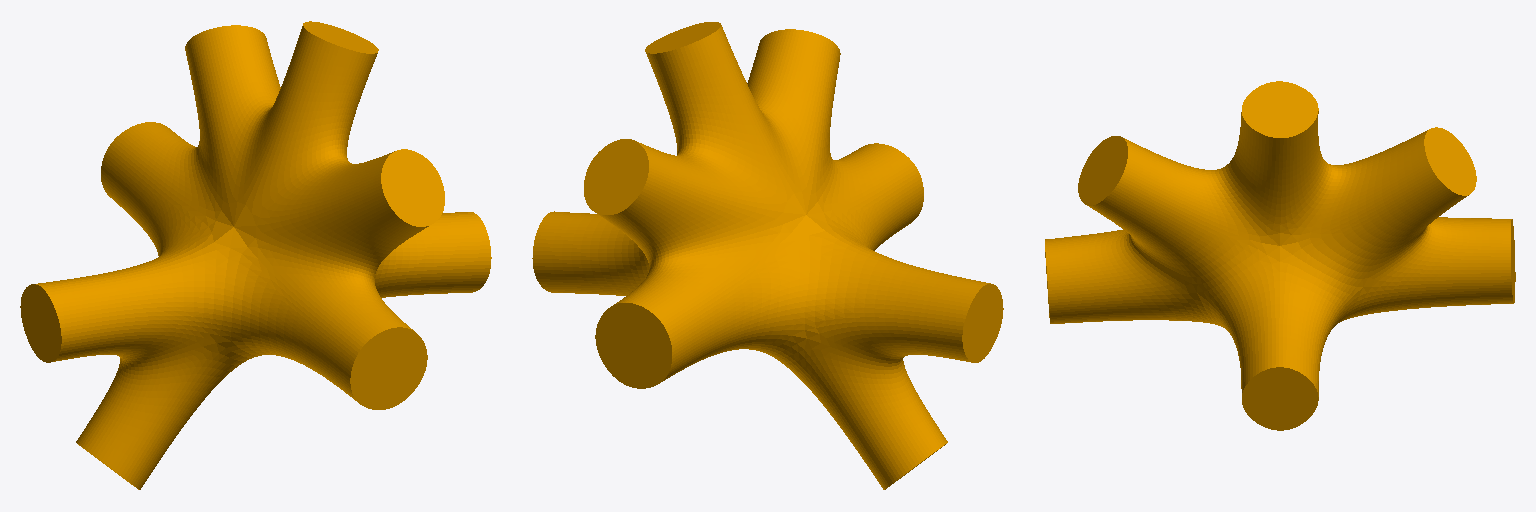
robot.urdf — object:
<robot name="object">
  <link name="object">
    <visual>
      <origin xyz="0 0 0"/>
      <geometry>
        <mesh filename="visual.obj" scale="1 1 1"/>
      </geometry>
    </visual>
    <collision>
      <origin xyz="0 0 0"/>
      <geometry>
        <mesh filename="visual.obj" scale="1 1 1"/>
      </geometry>
    </collision>
    <inertial>
      <mass value="0.05"/>
      <inertia ixx="0.0002339517952992041" iyy="0.00020137637265566034" izz="0.00026444955867964545" ixy="-2.7129347841855054e-07" ixz="-4.175984228362872e-05" iyz="-4.5858430369712055e-06"/>
    </inertial>
  </link>
</robot>

--- What the picture shows (computed from the rendered views, not written in the file) ---
Views: 3 orthographic renders of the robot side by side, from view 1: azimuth 30°, elevation 25°; view 2: azimuth 150°, elevation 25°; view 3: azimuth 270°, elevation 25°.
Robot: object — 1 links, 0 joints (none); root link object; default pose: all joints at 0.
Links seen in each view (by area): view 1: object; view 2: object; view 3: object.
Link boxes in pixels (box(x1,y1,x2,y2)): object: box(20, 21, 491, 489); object: box(532, 22, 1003, 489); object: box(1045, 81, 1515, 430).
Bounding box of the posed robot: 0.2823 × 0.2826 × 0.2552 m (x, y, z).
Meshes: 1 distinct files referenced, 1 mesh visuals loaded (1 OBJ).
